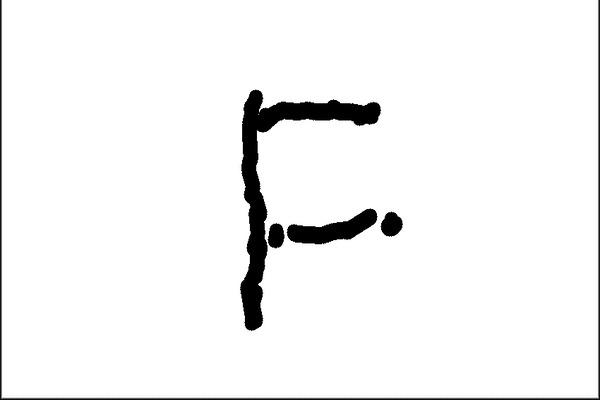F: (234, 83, 405, 335)
